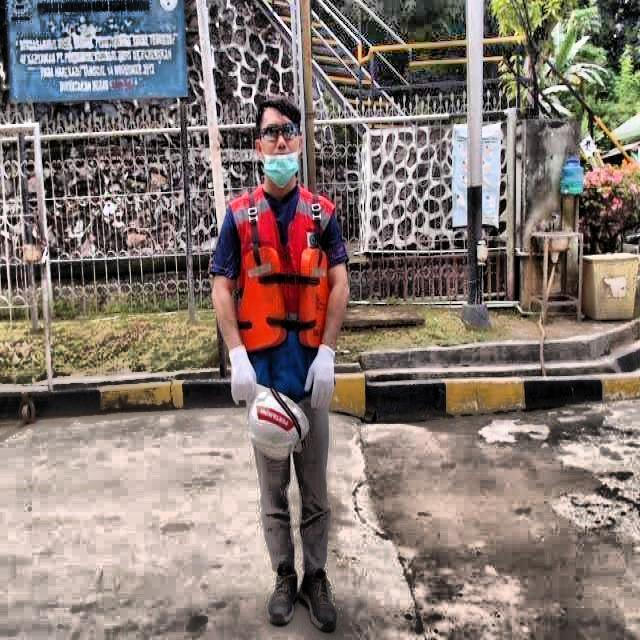safety_jacket: (226, 192, 337, 403)
